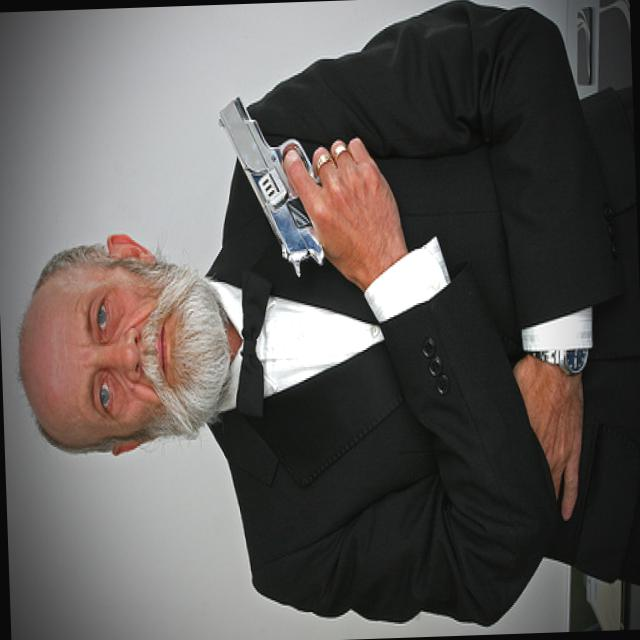handgun: (215, 91, 329, 282)
